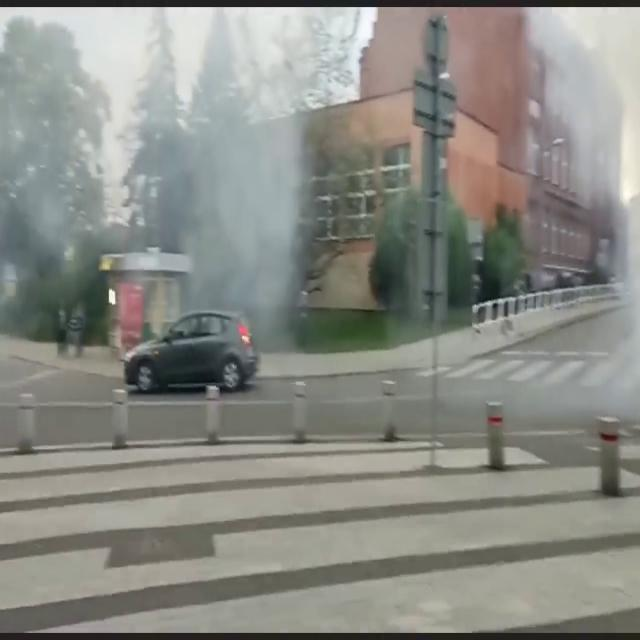Smoke: (1, 3, 352, 344), (525, 3, 640, 429)
